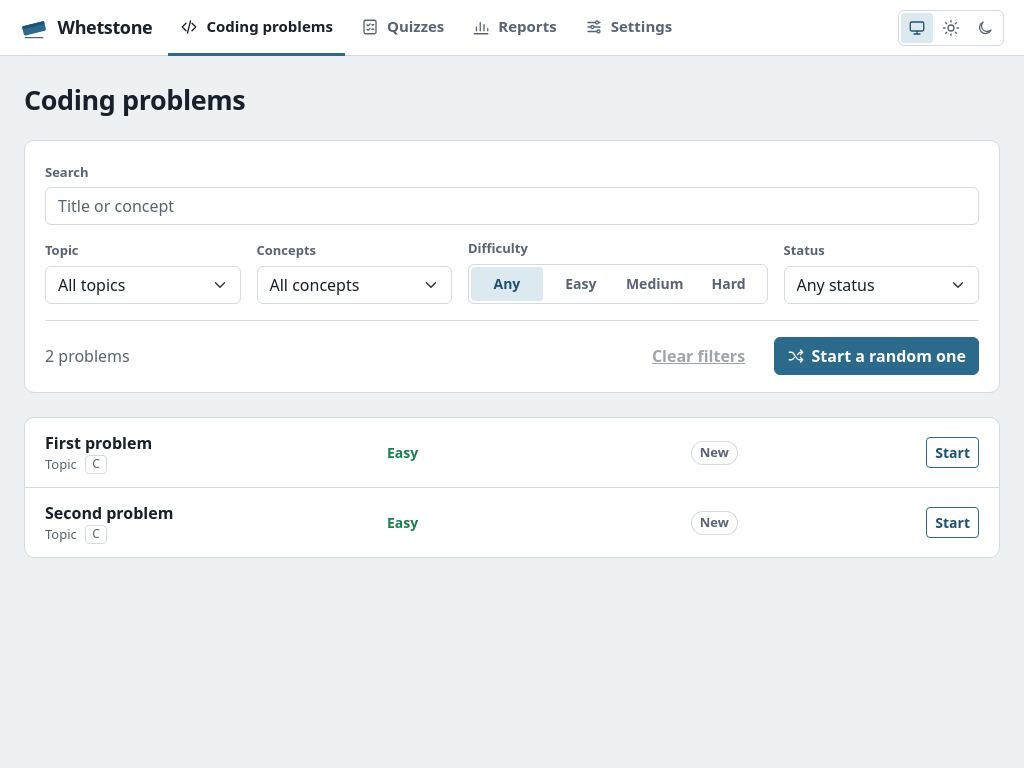
Test case: App › grades all tests, shows the score and only the first line of a hidden failure
Click the button with aria-label "Start First problem" at x=953, y=453, box [926,437,979,468]
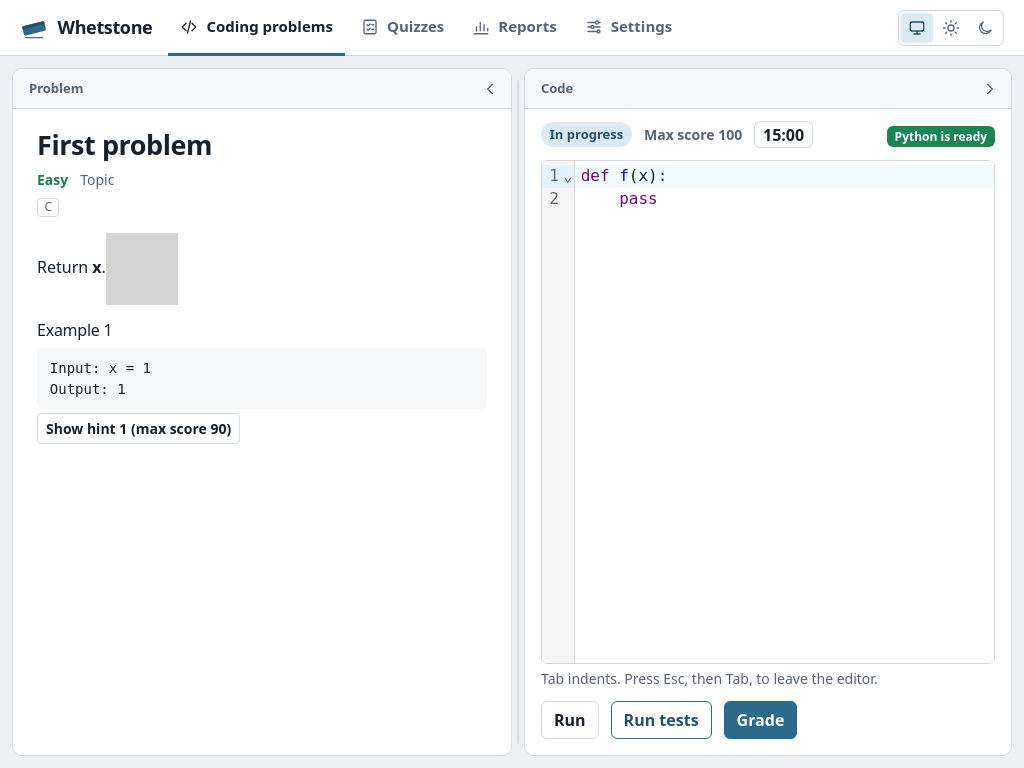
Click the button "Grade" at x=760, y=720, box [724,701,797,739]
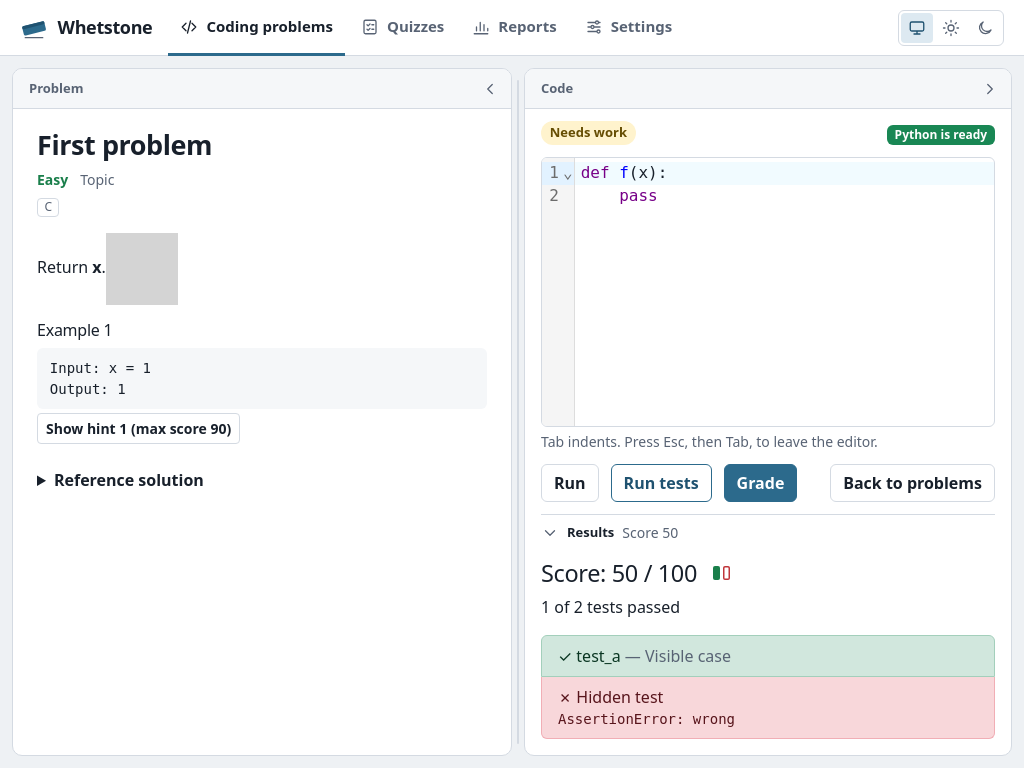
Now the heading "Score: 50 / 100" is shown, box [541,559,697,587]
Now the element named "Grade" shows "1 of 2 tests passed", box [541,559,995,739]
Now the element named "Grade" shows "Hidden test", box [576,686,663,708]
